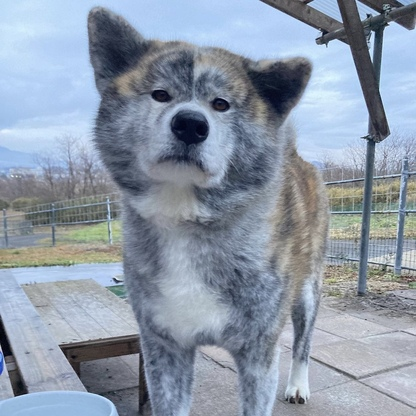akita: (78, 1, 340, 416)
